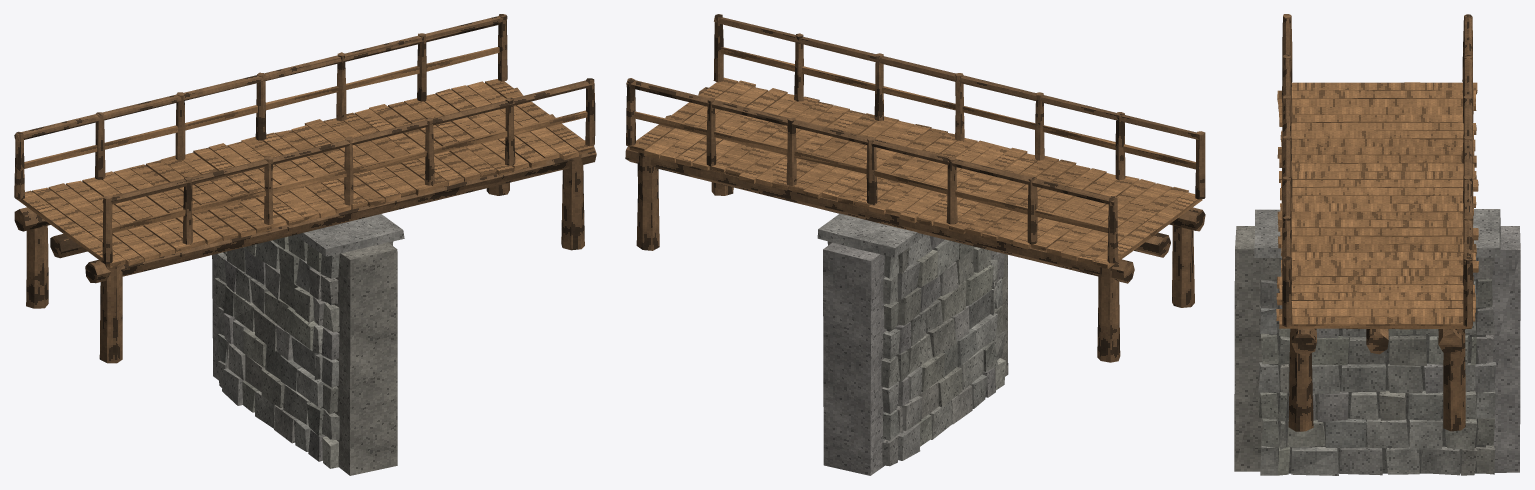
The model's file is ponte_m.glb.
3 renders of one model, left to right at view 1: azimuth 30°, elevation 25°; view 2: azimuth 150°, elevation 25°; view 3: azimuth 270°, elevation 25°, orthographic. The views are drawn at different scales.
Parts seen in each view (by area): view 1: ponte_m_madeira, ponte_m_pedra, ponte_m_tronco; view 2: ponte_m_madeira, ponte_m_pedra, ponte_m_tronco; view 3: ponte_m_pedra, ponte_m_madeira, ponte_m_tronco.
Boxes of the visible parts, x1,y1,x2,y2 form: ponte_m_madeira: (17, 47, 593, 267); ponte_m_pedra: (212, 214, 404, 475); ponte_m_tronco: (14, 14, 596, 363); ponte_m_madeira: (629, 47, 1202, 268); ponte_m_pedra: (817, 213, 1008, 475); ponte_m_tronco: (625, 14, 1205, 362); ponte_m_pedra: (1234, 209, 1520, 475); ponte_m_madeira: (1276, 82, 1478, 329); ponte_m_tronco: (1281, 14, 1473, 431).
Size of the model in its own units: 9.32 by 5.62 by 4.49.
Materials: 3 (3 with a texture image).
